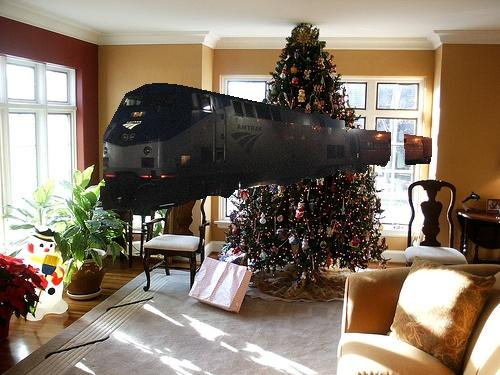tampered: (100, 84, 432, 211)
